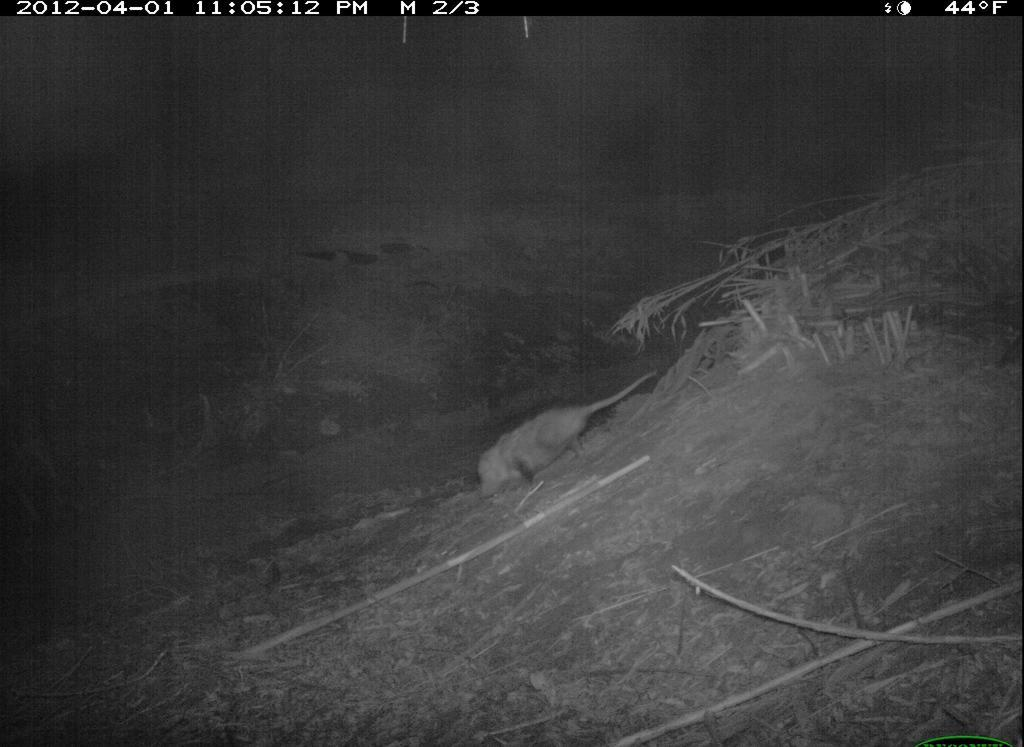opossum: (469, 360, 669, 501)
